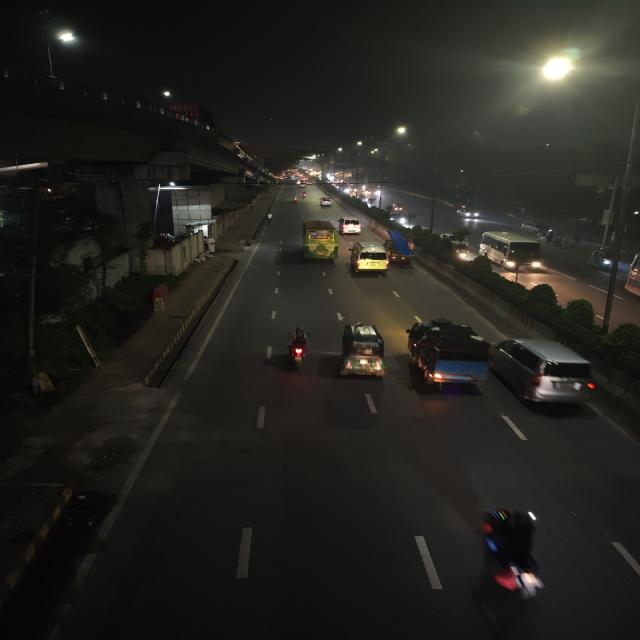bus: (478, 229, 546, 273), (297, 218, 340, 262)
car: (493, 332, 603, 413), (478, 229, 547, 273), (346, 240, 391, 280), (338, 215, 363, 235), (454, 208, 481, 222), (317, 196, 334, 208)
cng: (336, 319, 389, 382)
motorcycle: (282, 326, 316, 370), (587, 246, 617, 272), (299, 190, 309, 200), (292, 194, 300, 203)
pickup_van: (403, 317, 496, 393), (384, 233, 418, 267)
